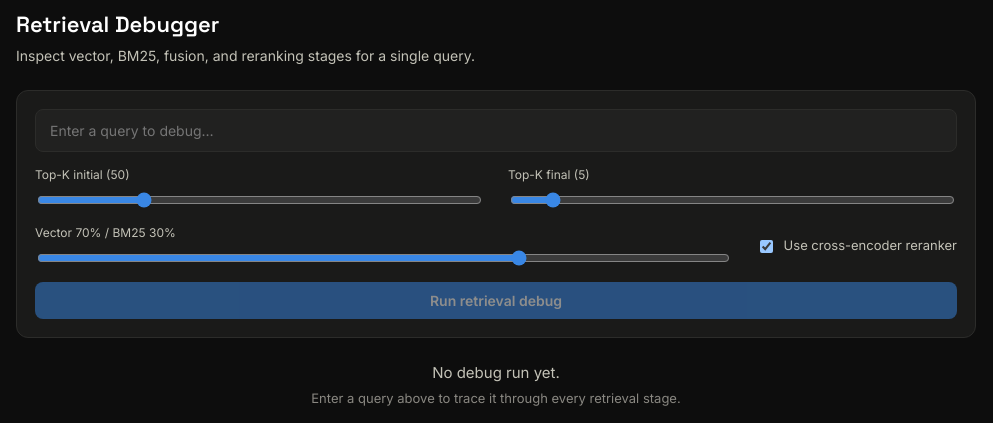
Test: RetrievalDebuggerView › surfaces a request error
The width and height of the screenshot is (993, 423).
Type "q" into the field with placeholder "Enter a query to debug…". click: (496, 130)
box: [35, 109, 957, 152]
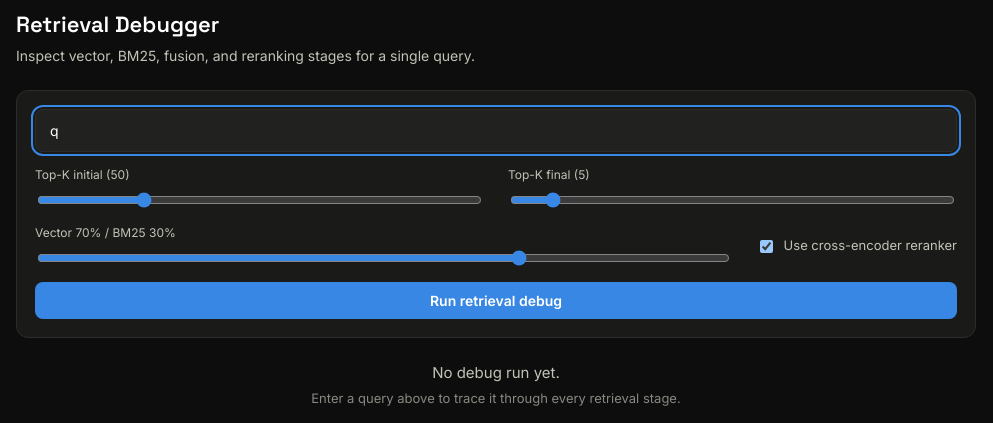
Click the button "Run retrieval debug". click: (496, 300)
box: [35, 282, 957, 319]
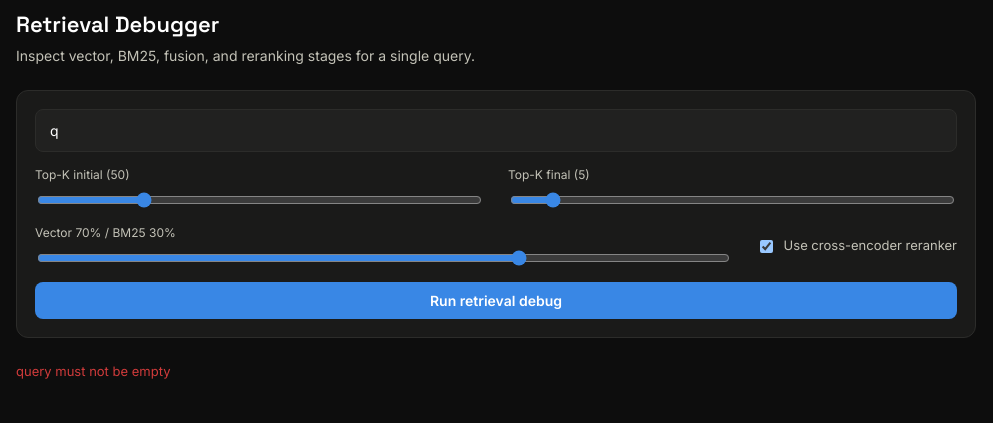
Check: the text "query must not be empty" is shown, box [16, 363, 170, 379]
